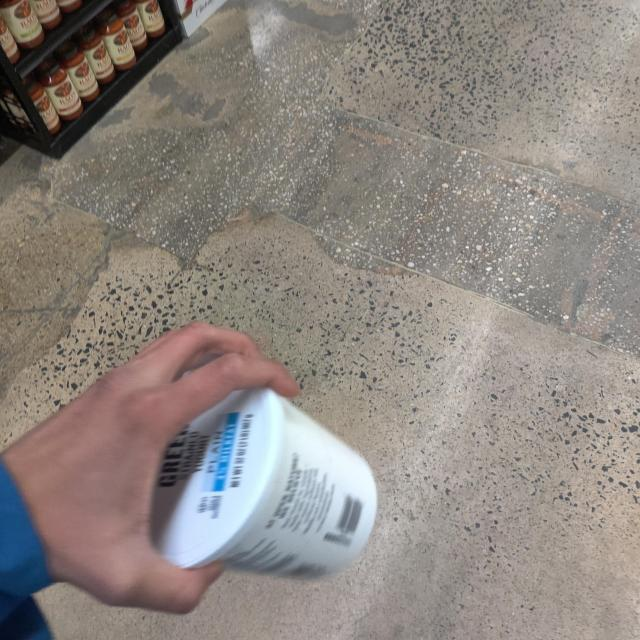Yogurt: (136, 388, 382, 580)
